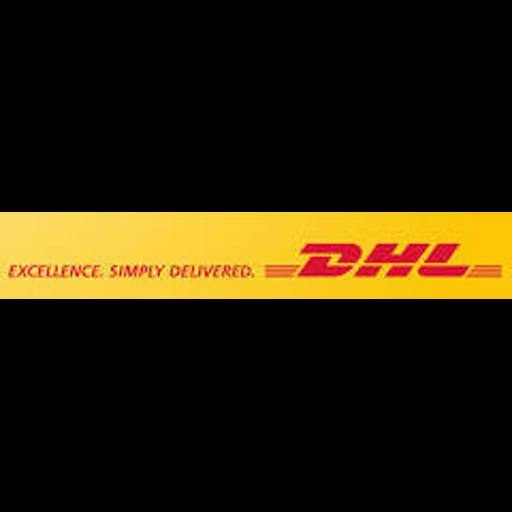DHL: (0, 212, 512, 299)
